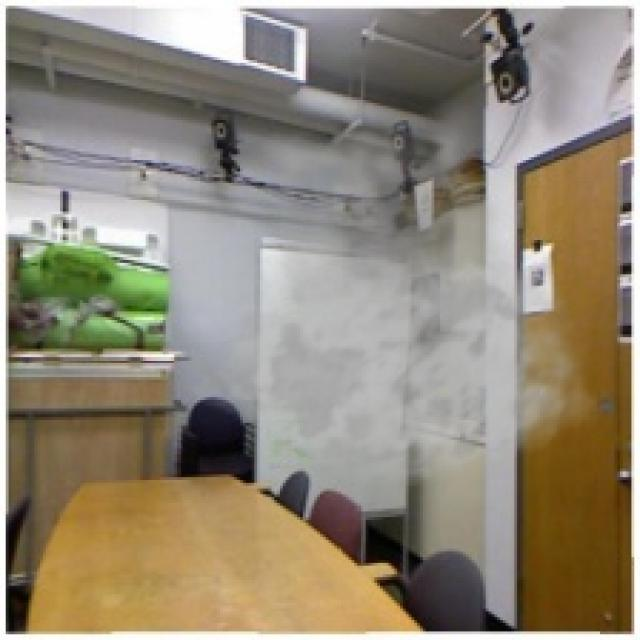smoke: (183, 91, 597, 488)
